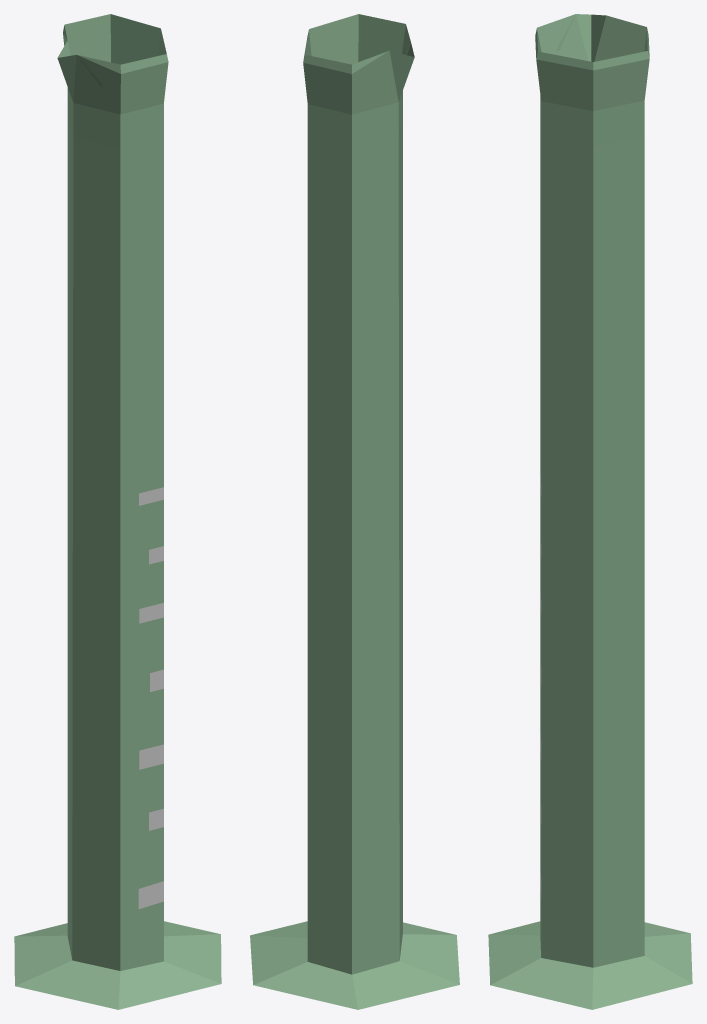
File: graduated_cylinder2.fbx
The picture shows the model from 3 angles, left to right: view 1: azimuth 30°, elevation 25°; view 2: azimuth 150°, elevation 25°; view 3: azimuth 270°, elevation 25°; orthographic projection.
Visible parts, largest first — view 1: graduated_cylinder1; view 2: graduated_cylinder1; view 3: graduated_cylinder1.
Boxes of the visible parts, x1,y1,x2,y2 form: graduated_cylinder1: [14, 14, 221, 1009]; graduated_cylinder1: [250, 14, 459, 1009]; graduated_cylinder1: [488, 14, 692, 1009].
Size of the model in its own units: 70.35 by 299 by 59.92.
